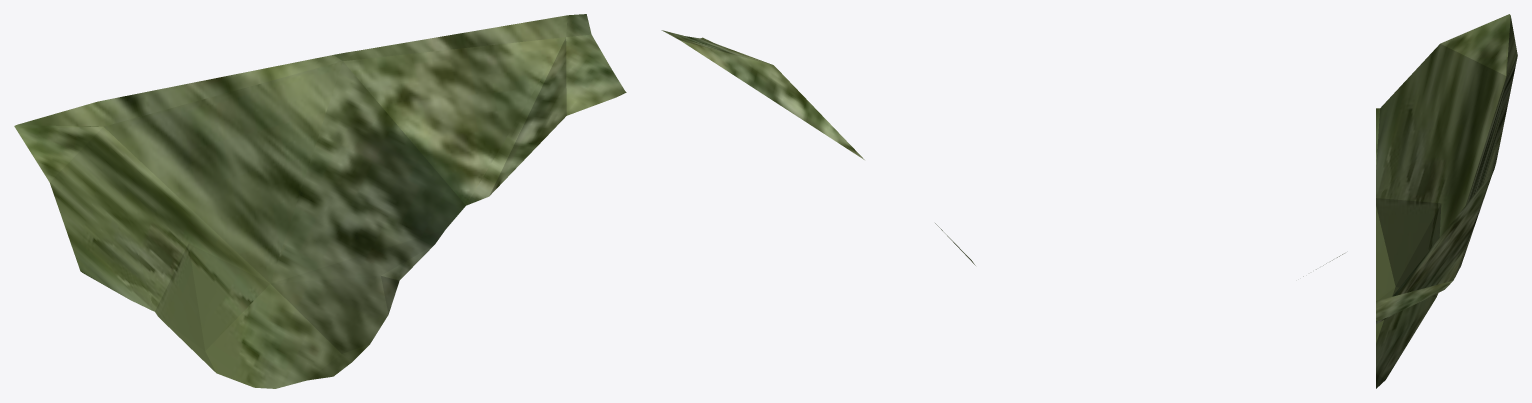
3 views of the same model, side by side, from view 1: azimuth 30°, elevation 25°; view 2: azimuth 150°, elevation 25°; view 3: azimuth 270°, elevation 25° (orthographic). The views are drawn at different scales.
Size of the model in its own units: 2.95 by 1.36 by 0.6813.
1 material, 1 textured.
